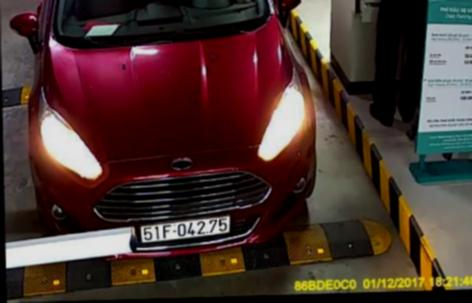License_Plate: (134, 210, 237, 245)
